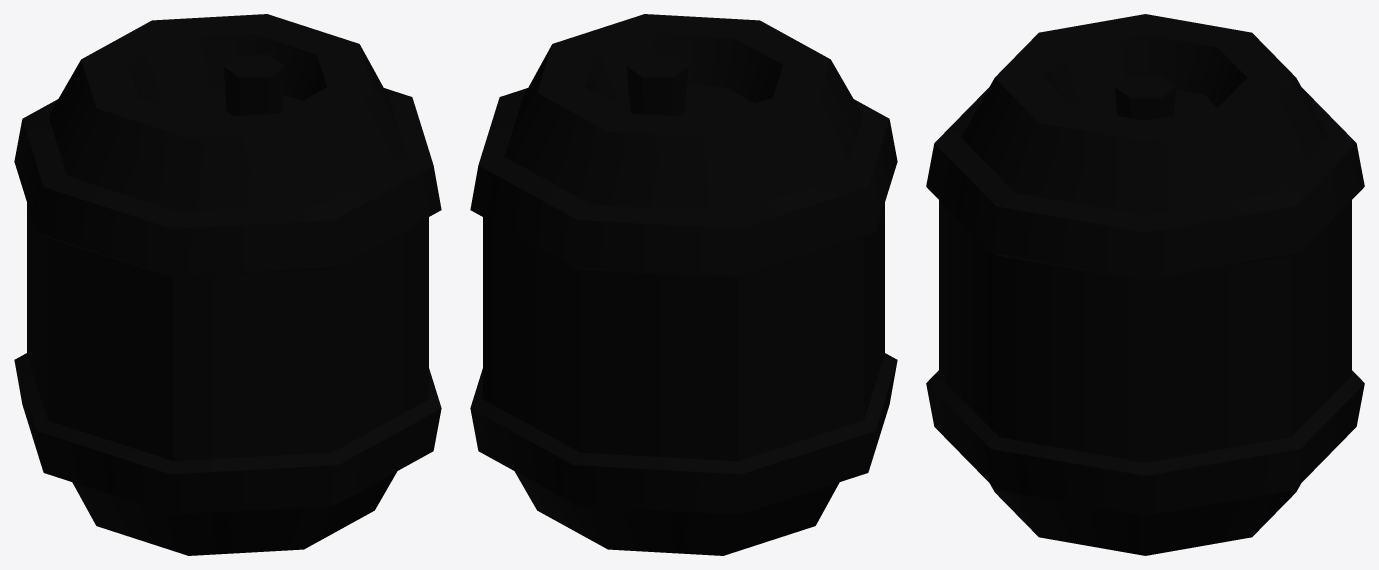
The model's file is barrel.glb.
3 views of the same model, side by side, from view 1: azimuth 30°, elevation 25°; view 2: azimuth 150°, elevation 25°; view 3: azimuth 270°, elevation 25° (orthographic).
Parts seen in each view (by area): view 1: barrel; view 2: barrel; view 3: barrel.
Boxes of the visible parts, x1,y1,x2,y2 form: barrel: (14,14,441,555); barrel: (470,14,897,555); barrel: (926,14,1364,555).
Bounding box in the file's own units: 0.2015 × 0.2117 × 0.2015.
Materials: 1 (1 with a texture image).
